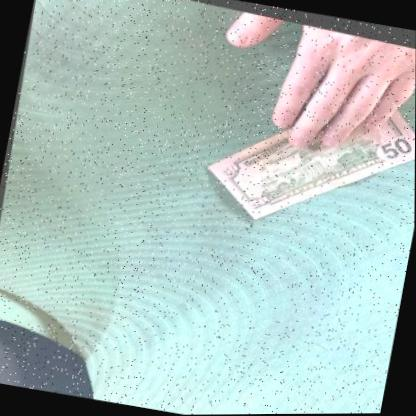fifty-back: (206, 82, 415, 216)
